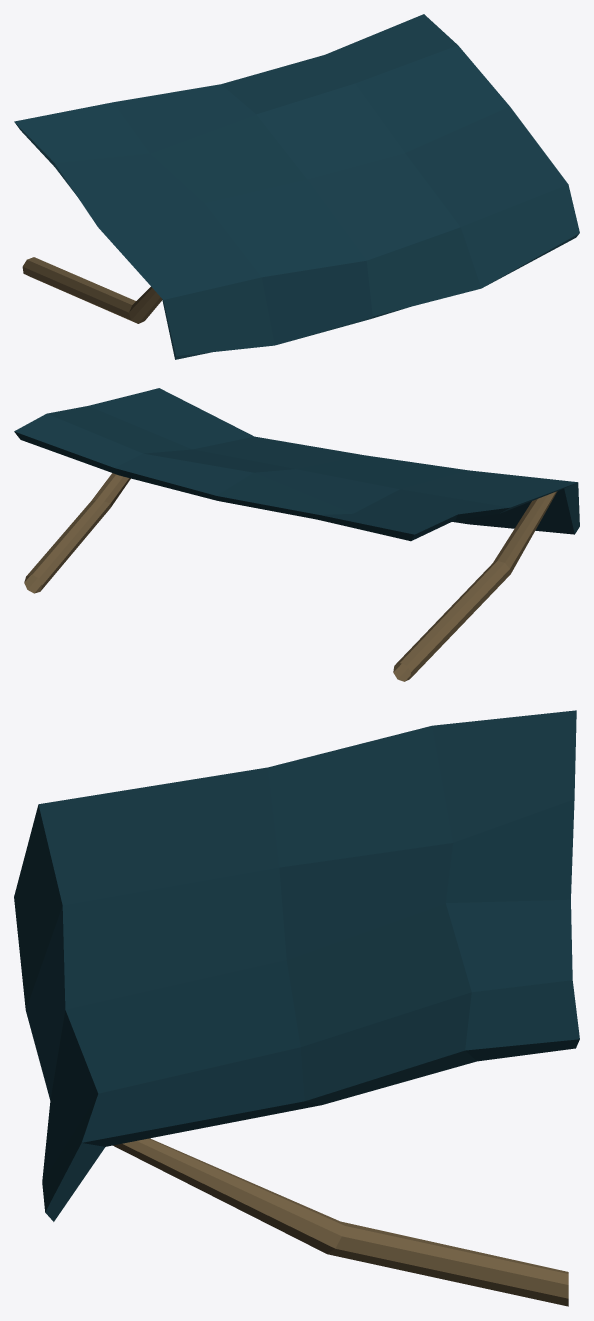
The model's file is roman_canopy_hanging.fbx.
3 renders of one model, top to bottom at view 1: azimuth 30°, elevation 25°; view 2: azimuth 150°, elevation 25°; view 3: azimuth 270°, elevation 25°, orthographic. The views are drawn at different scales.
Parts seen in each view (by area): view 1: Cylinder.013, Cylinder.012; view 2: Cylinder.013, Cylinder.012; view 3: Cylinder.013, Cylinder.012.
Boxes of the visible parts, x1,y1,x2,y2 form: Cylinder.013: (14, 14, 579, 359); Cylinder.012: (22, 257, 162, 323); Cylinder.013: (14, 388, 579, 541); Cylinder.012: (24, 473, 557, 681); Cylinder.013: (14, 710, 579, 1221); Cylinder.012: (113, 1138, 568, 1306).
Bounding box in the file's own units: 2.98 × 1.1 × 2.02.
